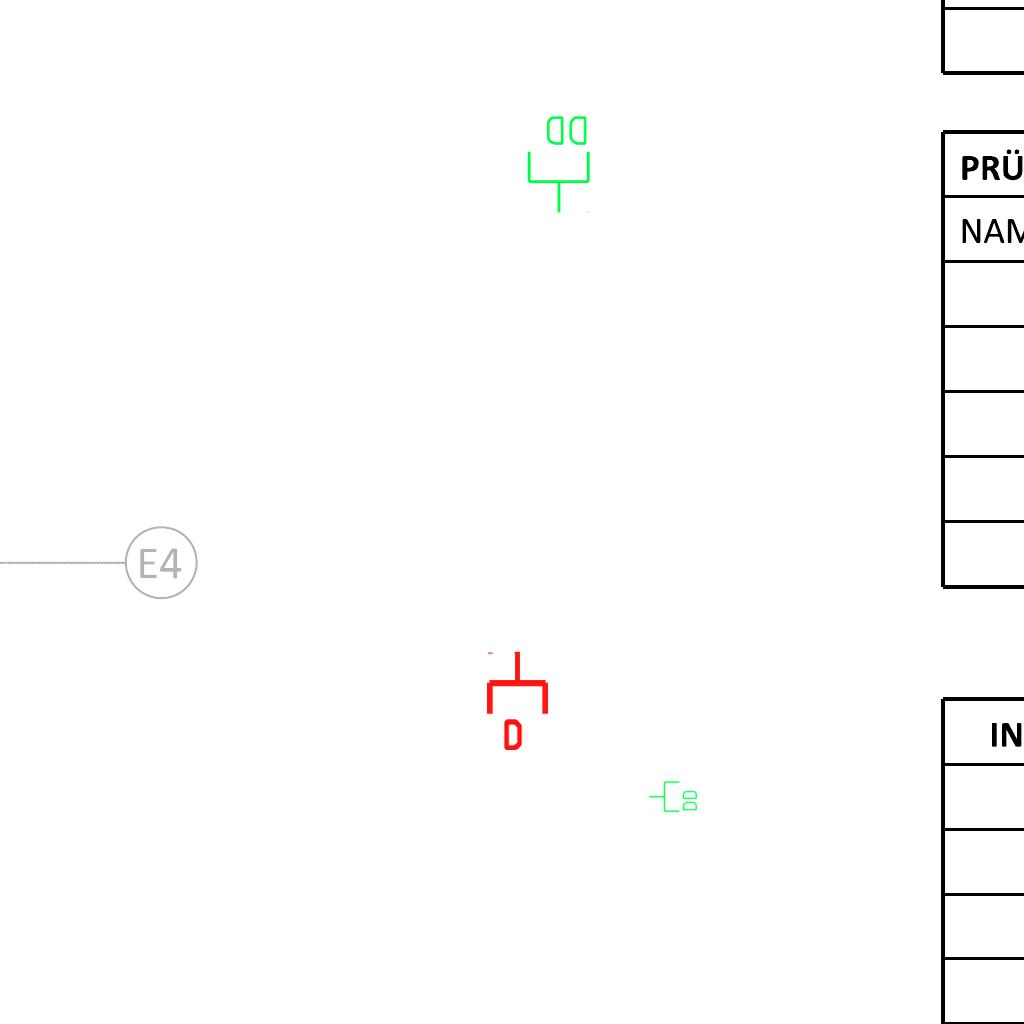Datenanschluss_einfach: (483, 650, 552, 750)
Datenanschluss_zweifach: (525, 112, 594, 215), (648, 780, 699, 814)
